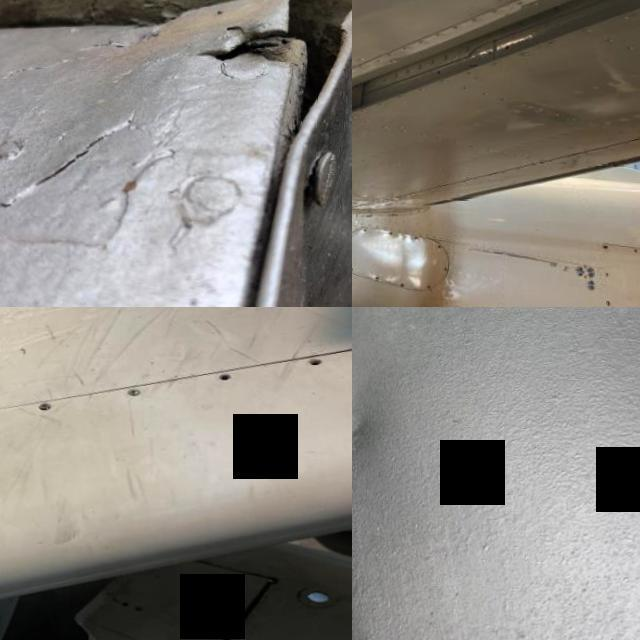Crack: (185, 4, 311, 75)
Dent: (352, 367, 413, 491)
Missing_Fastener: (306, 347, 328, 363), (216, 367, 238, 382), (378, 273, 385, 279), (352, 266, 360, 270), (441, 243, 448, 246), (431, 283, 436, 286), (368, 227, 371, 230)
